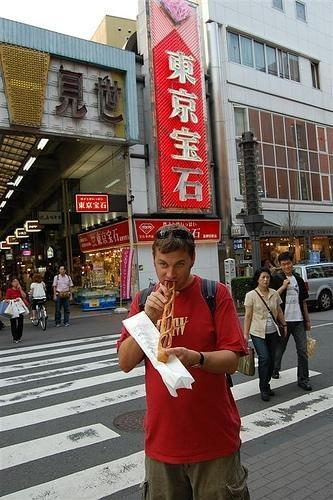bicycle: (31, 304, 48, 330)
car: (292, 262, 333, 309)
